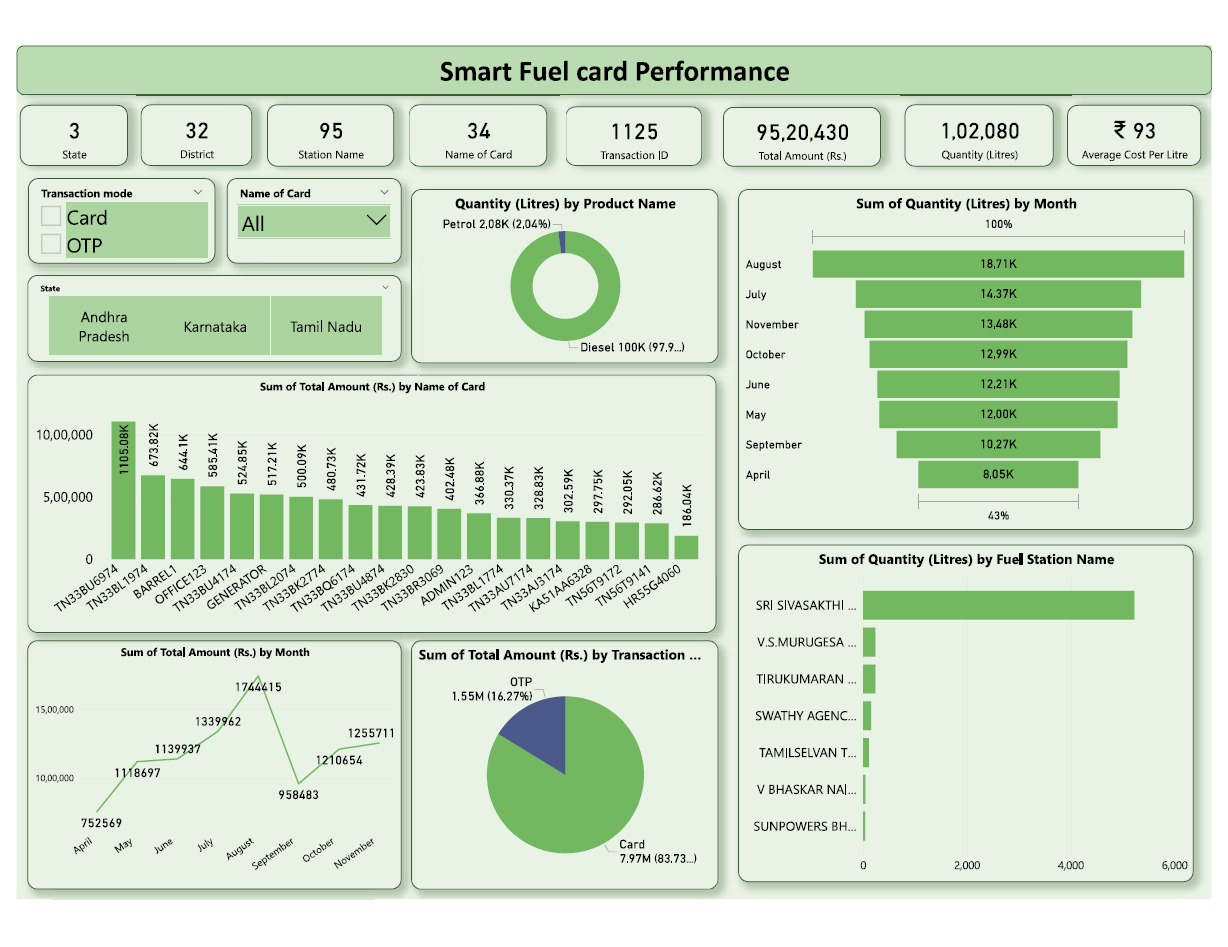

The dashboard page shown, as its layout file describes it:
{"tool":"powerbi","page":{"name":"Fuel Smart Card Analysis","canvas":[1750,1250],"ordinal":0},"visuals":[{"type":"textbox","box":[0,0,1750.6,71.5],"z":0},{"type":"card","fields":{"Values":["Sale Trans  History.Transaction ID"]},"box":[803.8,88.6,200.6,87.1],"z":1000},{"type":"card","fields":{"Values":["Sale Trans  History.Total Transaction Amount (Rs.)"]},"box":[1035.4,90.2,230.1,87.1],"z":2000},{"type":"card","fields":{"Values":["Sale Trans  History.Product Volume /  Quantity (Litres)"]},"box":[1301.3,85.5,217.7,91.7],"z":3000},{"type":"card","fields":{"Values":["Sale Trans  History.District"]},"box":[181.9,85.5,163.2,90.2],"z":4000},{"type":"card","fields":{"Values":["Sale Trans  History.State"]},"box":[4.7,87.1,158.6,88.6],"z":5000},{"type":"card","fields":{"Values":["Sale Trans  History.Name of Card"]},"box":[575.2,85.5,202.1,91.7],"z":6000},{"type":"card","fields":{"Values":["Sale Trans  History.Fuel Station Name"]},"box":[366.9,85.5,186.6,91.7],"z":7000},{"type":"card","fields":{"Values":["Sale Trans  History.Average Cost Per Litre"]},"box":[1539.2,87.1,195.9,88.6],"z":8000},{"type":"donutChart","fields":{"Category":["Sale Trans  History.Product Name"],"Y":["Sale Trans  History.Quantity (Litres)"]},"box":[578.4,209.9,449.3,255],"z":9000},{"type":"funnel","fields":{"Category":["Sale Trans  History.Transaction Date.Variation.Date Hierarchy.Month"],"Y":["Sale Trans  History.Quantity (Litres)","select"]},"box":[1057.2,209.9,667,499.1],"z":10000},{"type":"clusteredColumnChart","fields":{"Category":["Sale Trans  History.Name of Card"],"Y":["Sale Trans  History.Total Amount (Rs.)"]},"box":[15.5,482,1009,377.8],"z":11000},{"type":"clusteredBarChart","fields":{"Category":["Sale Trans  History.Fuel Station Name"],"Y":["Sale Trans  History.Quantity (Litres)"]},"box":[1057.2,730.7,667,494.4],"z":12000},{"type":"slicer","fields":{"Values":["Sale Trans  History.State"]},"box":[15.5,335.8,548.8,127.5],"z":13000},{"type":"slicer","fields":{"Values":["Sale Trans  History.Transaction mode"]},"box":[17.1,194.3,273.6,124.4],"z":14000},{"type":"slicer","fields":{"Values":["Sale Trans  History.Name of Card"]},"box":[307.8,194.3,256.5,124.4],"z":15000},{"type":"pieChart","fields":{"Y":["Sale Trans  History.Total Amount (Rs.)"],"Series":["Sale Trans  History.Transaction mode"]},"box":[578.4,870.6,449.3,365.4],"z":16000},{"type":"lineChart","fields":{"Category":["Sale Trans  History.Transaction Date.Variation.Date Hierarchy.Month"],"Y":["Sale Trans  History.Total Amount (Rs.)"]},"box":[15.5,870.6,548.8,365.4],"z":16001}]}

Visuals, with their boxes in screenshot pixels (x1, y1, x2, y2):
textbox: {"left": 3, "top": 42, "right": 1215, "bottom": 91}
card - Sale Trans  History.Transaction ID: {"left": 559, "top": 103, "right": 698, "bottom": 163}
card - Sale Trans  History.Total Transaction Amount (Rs.): {"left": 720, "top": 104, "right": 879, "bottom": 164}
card - Sale Trans  History.Product Volume /  Quantity (Litres): {"left": 904, "top": 101, "right": 1054, "bottom": 164}
card - Sale Trans  History.District: {"left": 129, "top": 101, "right": 242, "bottom": 163}
card - Sale Trans  History.State: {"left": 6, "top": 102, "right": 116, "bottom": 163}
card - Sale Trans  History.Name of Card: {"left": 401, "top": 101, "right": 541, "bottom": 164}
card - Sale Trans  History.Fuel Station Name: {"left": 257, "top": 101, "right": 386, "bottom": 164}
card - Sale Trans  History.Average Cost Per Litre: {"left": 1068, "top": 102, "right": 1204, "bottom": 163}
donutChart - Sale Trans  History.Product Name x Sale Trans  History.Quantity (Litres): {"left": 403, "top": 187, "right": 714, "bottom": 363}
funnel - Sale Trans  History.Transaction Date.Variation.Date Hierarchy.Month x Sale Trans  History.Quantity (Litres): {"left": 735, "top": 187, "right": 1196, "bottom": 532}
clusteredColumnChart - Sale Trans  History.Name of Card x Sale Trans  History.Total Amount (Rs.): {"left": 14, "top": 375, "right": 712, "bottom": 637}
clusteredBarChart - Sale Trans  History.Fuel Station Name x Sale Trans  History.Quantity (Litres): {"left": 735, "top": 547, "right": 1196, "bottom": 889}
slicer - Sale Trans  History.State: {"left": 14, "top": 274, "right": 394, "bottom": 362}
slicer - Sale Trans  History.Transaction mode: {"left": 15, "top": 176, "right": 204, "bottom": 262}
slicer - Sale Trans  History.Name of Card: {"left": 216, "top": 176, "right": 394, "bottom": 262}
pieChart - Sale Trans  History.Total Amount (Rs.) x Sale Trans  History.Transaction mode: {"left": 403, "top": 644, "right": 714, "bottom": 897}
lineChart - Sale Trans  History.Transaction Date.Variation.Date Hierarchy.Month x Sale Trans  History.Total Amount (Rs.): {"left": 14, "top": 644, "right": 394, "bottom": 897}
